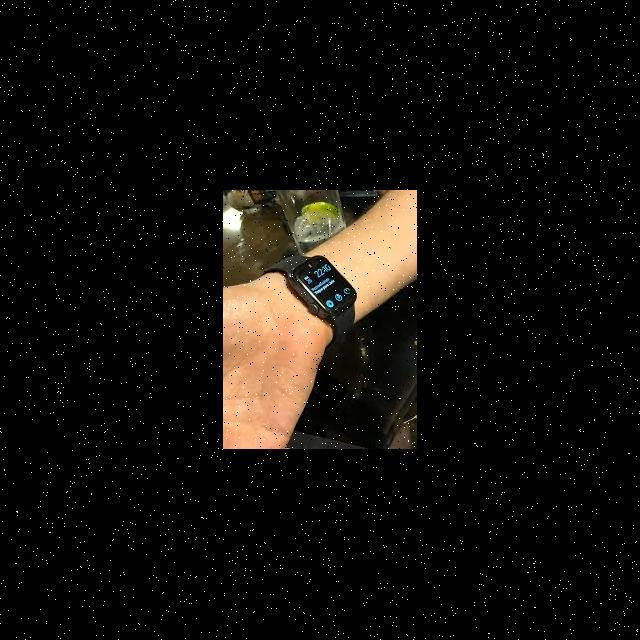watch: (245, 255, 404, 360)
